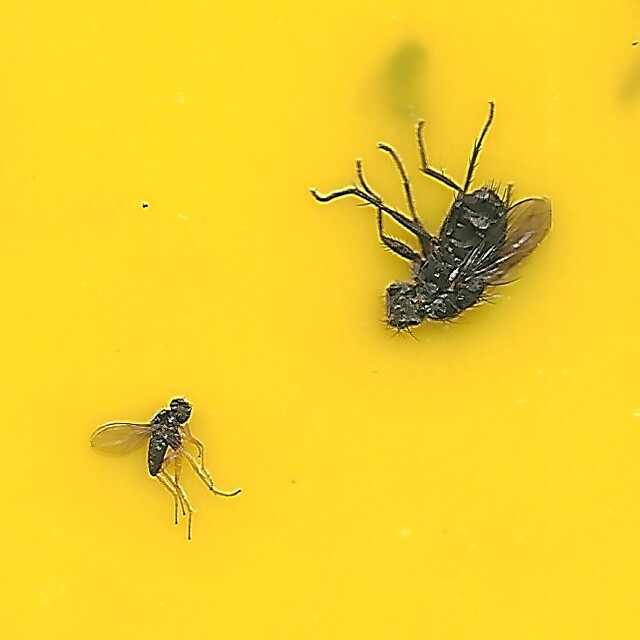Brachycera: (312, 98, 552, 335), (88, 392, 242, 542)
